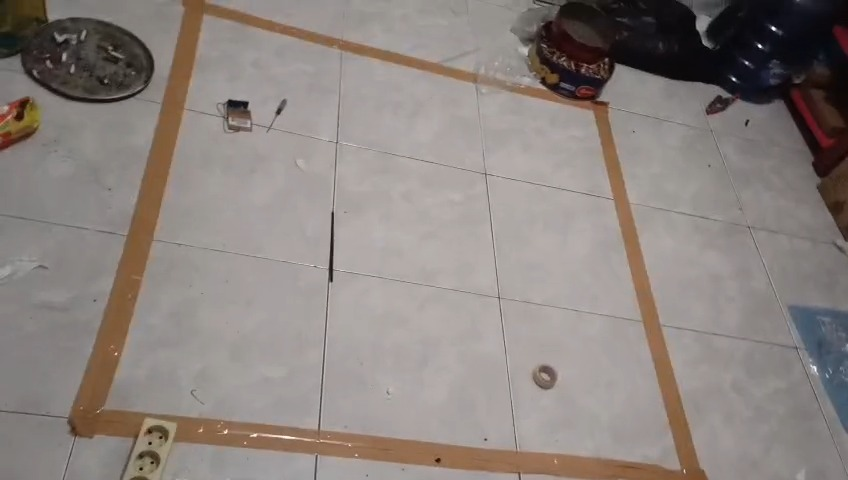floor marking: (69, 0, 706, 479)
